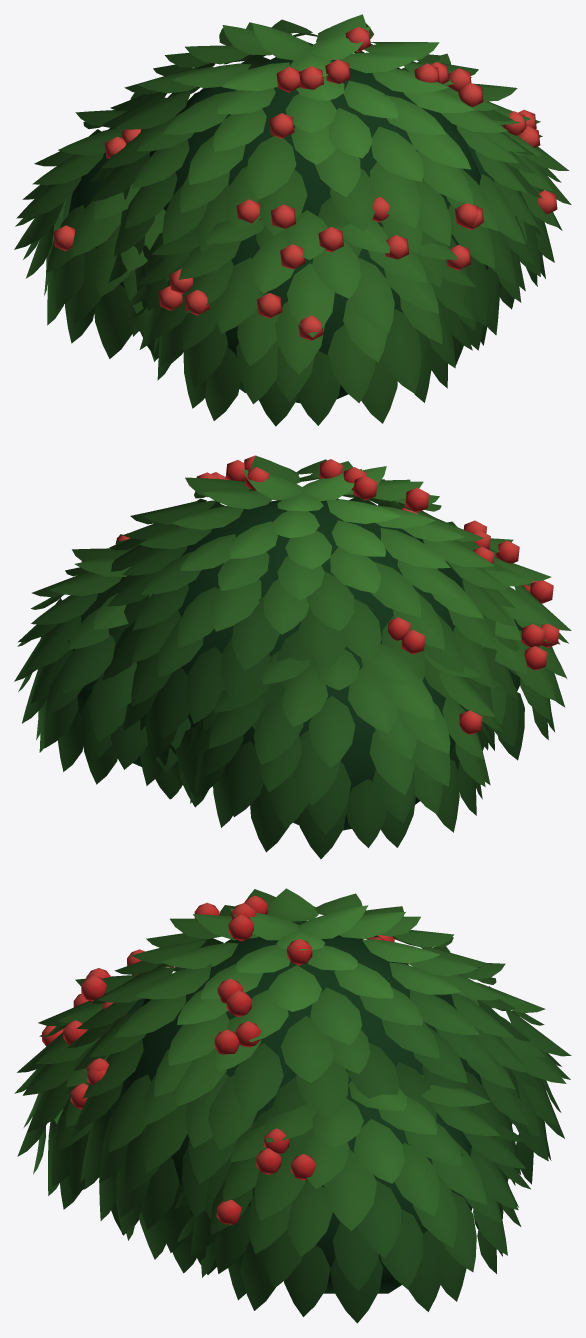
Rendered from bush_holly.glb.
3 views of the same model, one above another, from view 1: azimuth 30°, elevation 25°; view 2: azimuth 150°, elevation 25°; view 3: azimuth 270°, elevation 25° (orthographic). The views are drawn at different scales.
Parts seen in each view (by area): view 1: bush_holly; view 2: bush_holly; view 3: bush_holly.
Part boxes in pixels (box(x1,y1,x2,y2)): bush_holly: box(14, 14, 571, 426); bush_holly: box(14, 455, 571, 858); bush_holly: box(14, 888, 571, 1323).
Size of the model in its own units: 1.37 by 0.8533 by 1.32.
